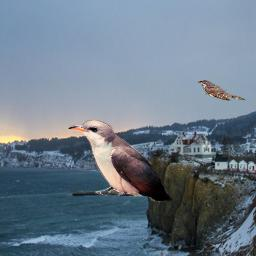Cuckoo: (68, 120, 174, 202), (197, 79, 246, 103)
